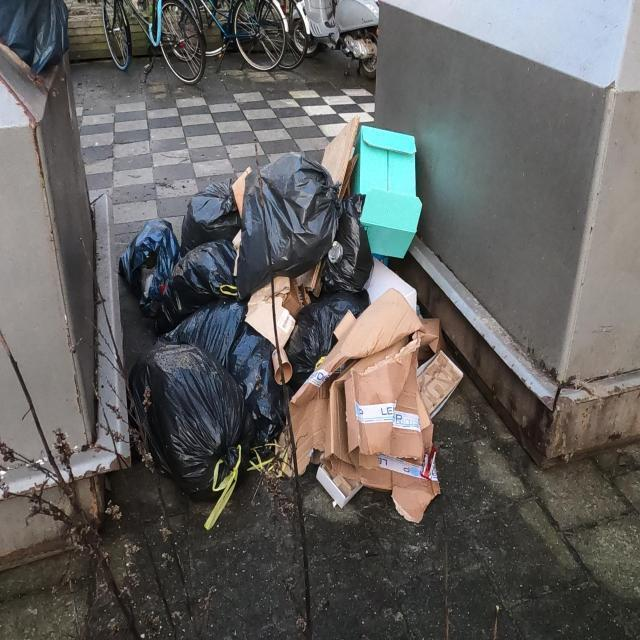Cup: (271, 348, 293, 386)
